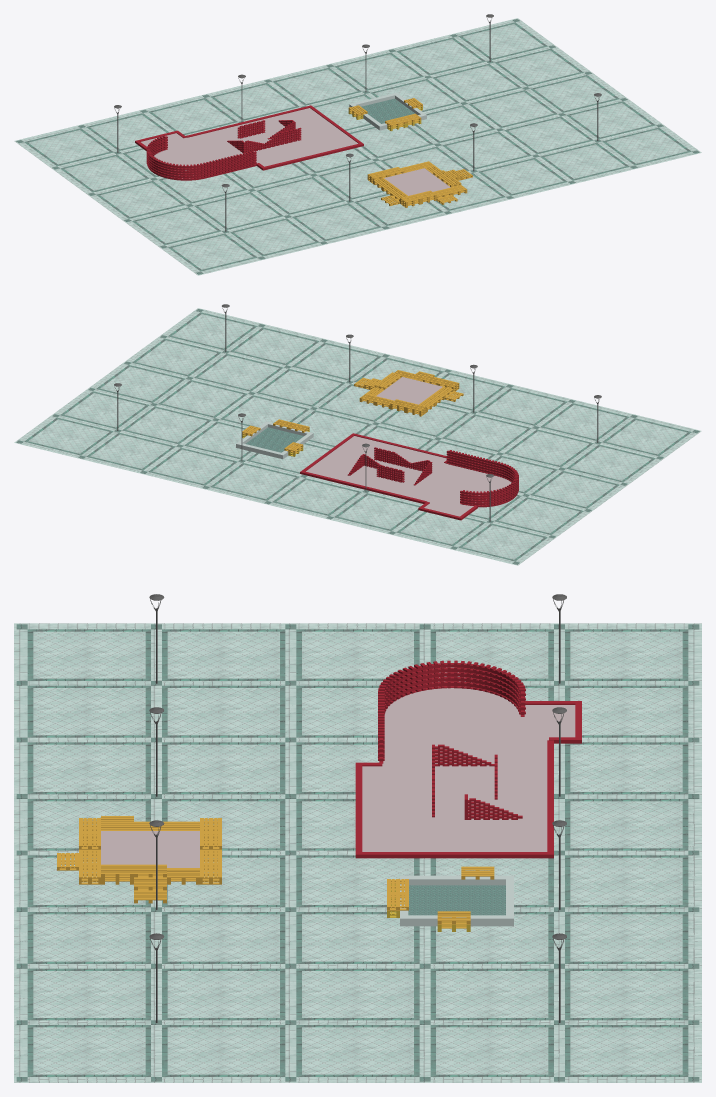
3 views of the same model, one above another, from view 1: azimuth 30°, elevation 25°; view 2: azimuth 150°, elevation 25°; view 3: azimuth 270°, elevation 25° (orthographic). The views are drawn at different scales.
Visible parts, largest first — view 1: square 1 component (×37), object 1022, object 584, Shape Bender Component#1, object 37, object 586, object 585; view 2: square 1 component (×38), object 1022, object 584, Shape Bender Component#1, object 37, object 585, object 586; view 3: square 1 component (×37), object 1022, object 584, Shape Bender Component#1, object 37, object 586, object 585.
Part boxes in pixels (<box>): square 1 component (×37): <box>16,22,691,271</box>; object 1022: <box>14,18,701,275</box>; object 584: <box>141,108,358,178</box>; Shape Bender Component#1: <box>146,135,256,180</box>; object 37: <box>384,168,450,195</box>; object 586: <box>361,98,414,123</box>; object 585: <box>349,93,426,130</box>; square 1 component (×38): <box>24,312,691,564</box>; object 1022: <box>14,308,701,565</box>; object 584: <box>306,436,511,516</box>; Shape Bender Component#1: <box>446,450,518,507</box>; object 37: <box>376,377,442,404</box>; object 585: <box>236,421,313,459</box>; object 586: <box>245,427,303,452</box>; square 1 component (×37): <box>27,624,699,1076</box>; object 1022: <box>14,623,701,1082</box>; object 584: <box>362,688,575,851</box>; Shape Bender Component#1: <box>378,660,525,763</box>; object 37: <box>101,831,199,867</box>; object 586: <box>408,885,505,915</box>; object 585: <box>400,875,513,926</box>.
Size of the model in its own units: 1.8 by 0.1598 by 1.14.
12 materials, 4 textured.
